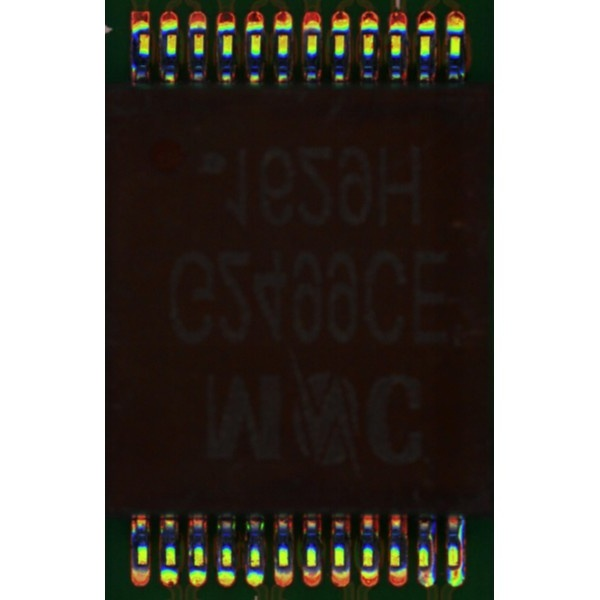Bad_podu: (420, 561, 429, 578), (451, 560, 459, 578)
Bad_qiaojiao: (458, 514, 464, 568), (429, 521, 435, 568)
